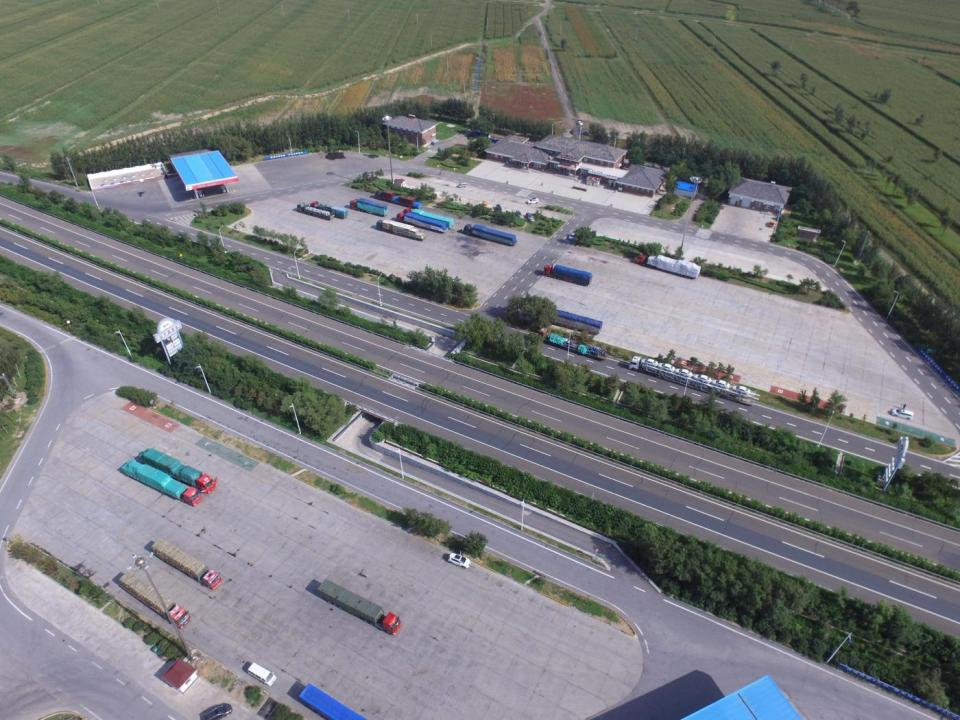car: (204, 704, 233, 720), (448, 552, 471, 569)
truck: (629, 355, 759, 405), (318, 578, 400, 636), (119, 571, 191, 629), (122, 459, 202, 506), (140, 447, 218, 494), (152, 538, 221, 590), (522, 303, 602, 337), (298, 683, 366, 720), (537, 326, 607, 360), (634, 254, 701, 279), (463, 224, 517, 246), (403, 207, 453, 230), (544, 264, 592, 287), (396, 212, 447, 233), (376, 218, 424, 240), (310, 200, 348, 220), (297, 202, 335, 220)
van: (247, 662, 276, 687)
